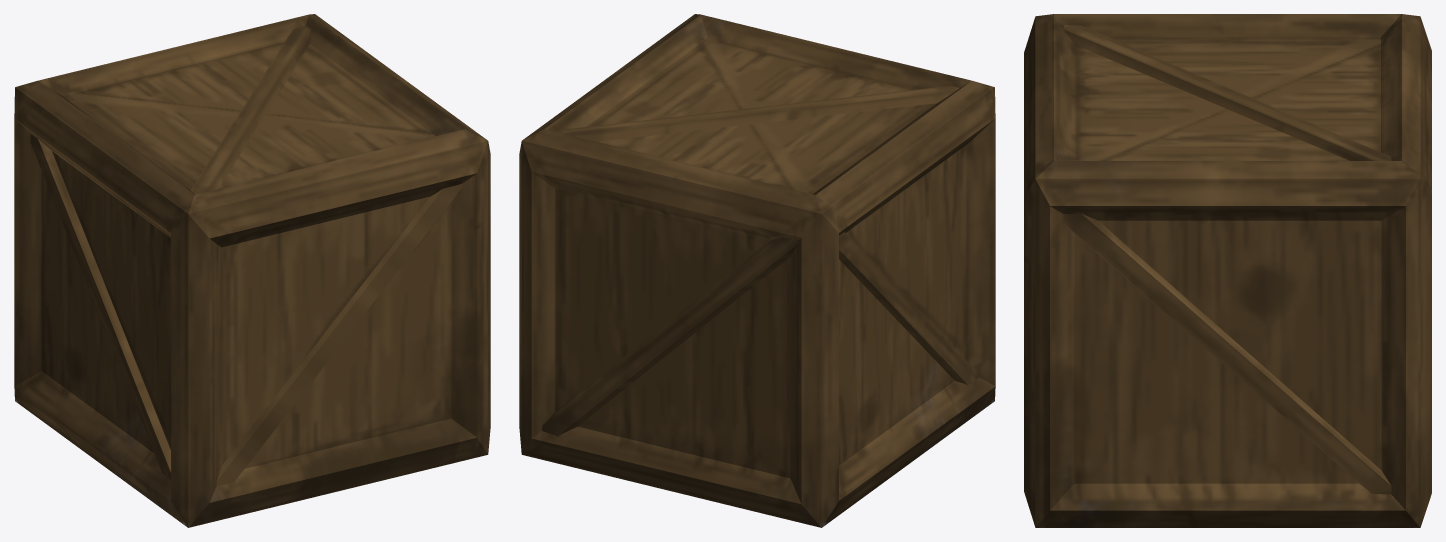
The picture shows the model from 3 angles, left to right: view 1: azimuth 30°, elevation 25°; view 2: azimuth 150°, elevation 25°; view 3: azimuth 270°, elevation 25°; orthographic projection. The views are drawn at different scales.
Parts seen in each view (by area): view 1: box01; view 2: box01; view 3: box01.
Part boxes in pixels (box(x1,y1,x2,y2)): box01: box(14, 14, 490, 527); box01: box(519, 14, 995, 527); box01: box(1024, 14, 1431, 527).
Bounding box in the file's own units: 106 × 103 × 106.
Materials: 1 (1 with a texture image).
